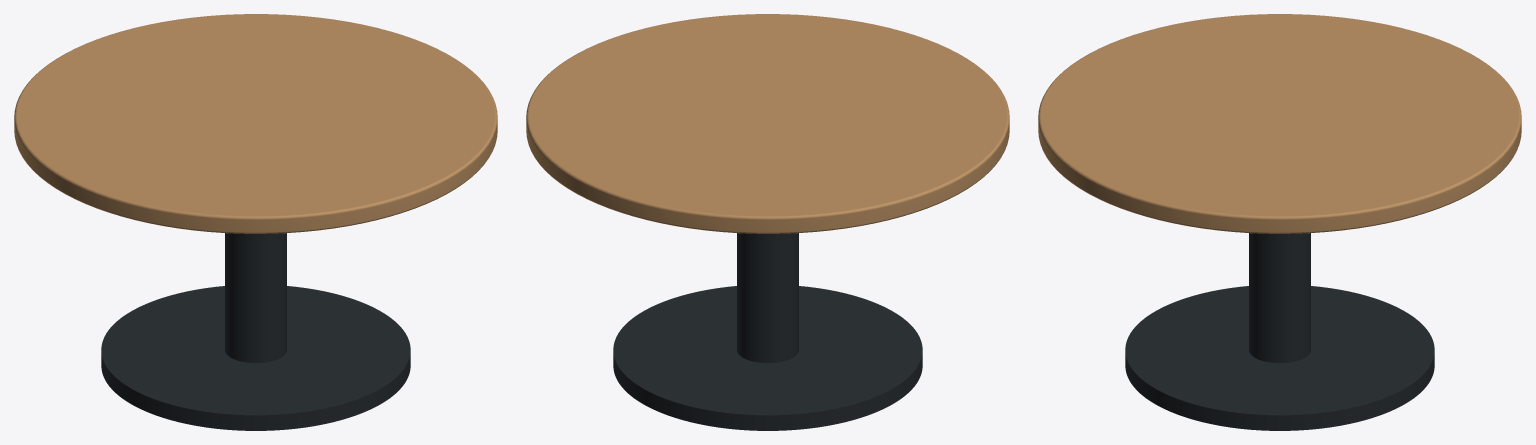
File: coffeeTable-1.glb
3 views of the same model, side by side, from view 1: azimuth 30°, elevation 25°; view 2: azimuth 150°, elevation 25°; view 3: azimuth 270°, elevation 25° (orthographic).
Visible parts, largest first — view 1: coffeeTable:1:archviz; view 2: coffeeTable:1:archviz; view 3: coffeeTable:1:archviz.
Boxes of the visible parts, box(x1,y1,x2,y2) form: coffeeTable:1:archviz: box(14, 14, 497, 430); coffeeTable:1:archviz: box(526, 14, 1009, 430); coffeeTable:1:archviz: box(1038, 14, 1521, 430).
Bounding box in the file's own units: 0.7 × 0.4 × 0.7.
